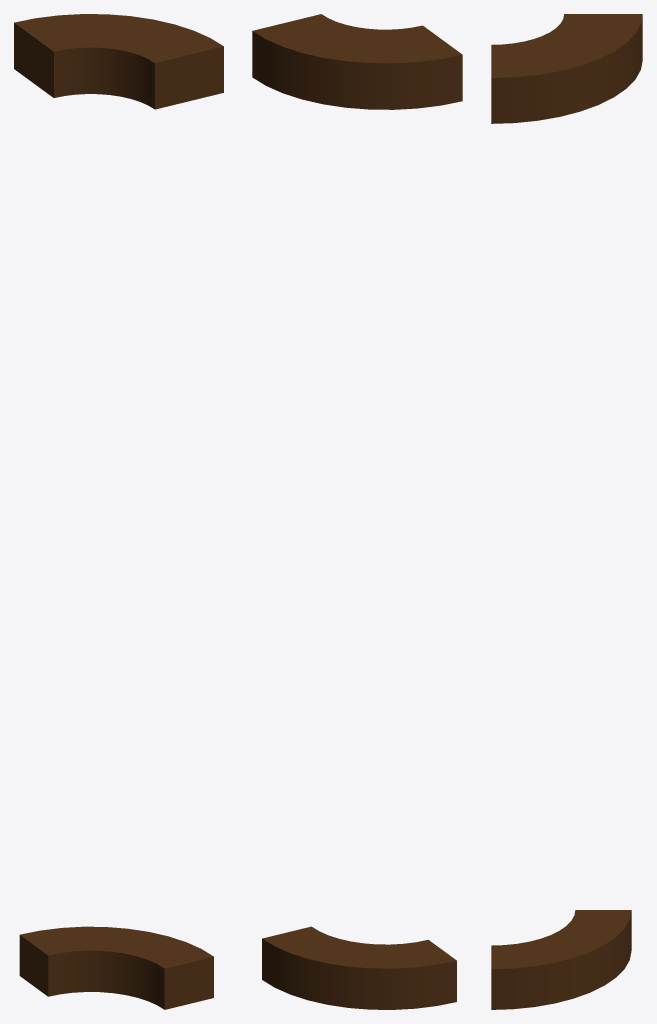
File: gelaender_ecke_rund.glb
The picture shows the model from 3 angles, left to right: view 1: azimuth 30°, elevation 25°; view 2: azimuth 210°, elevation 25°; view 3: azimuth 270°, elevation 25°; orthographic projection.
Visible parts, largest first — view 1: gelaender_ecke_rund; view 2: gelaender_ecke_rund; view 3: gelaender_ecke_rund.
Part boxes in pixels (x1,y1,x2,y2): gelaender_ecke_rund: [14, 14, 223, 1009]; gelaender_ecke_rund: [252, 14, 462, 1009]; gelaender_ecke_rund: [491, 14, 642, 1009].
Bounding box in the file's own units: 0.135 × 0.92 × 0.135.
